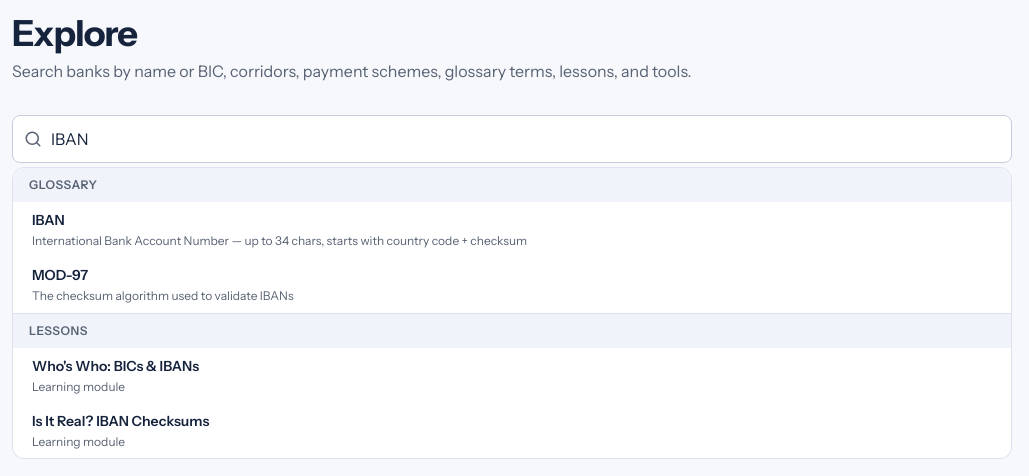
Scenario: ExplorePage › keeps Enter activation inside a router basename
This screenshot has width=1029, height=476.
Click the search field at (512, 139), box [12,115,1012,163]
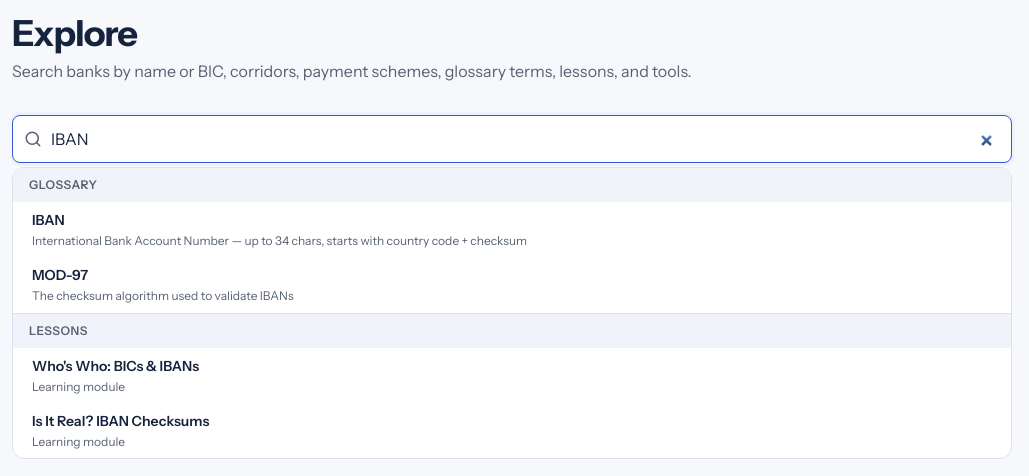
Press Arrowdown Enter
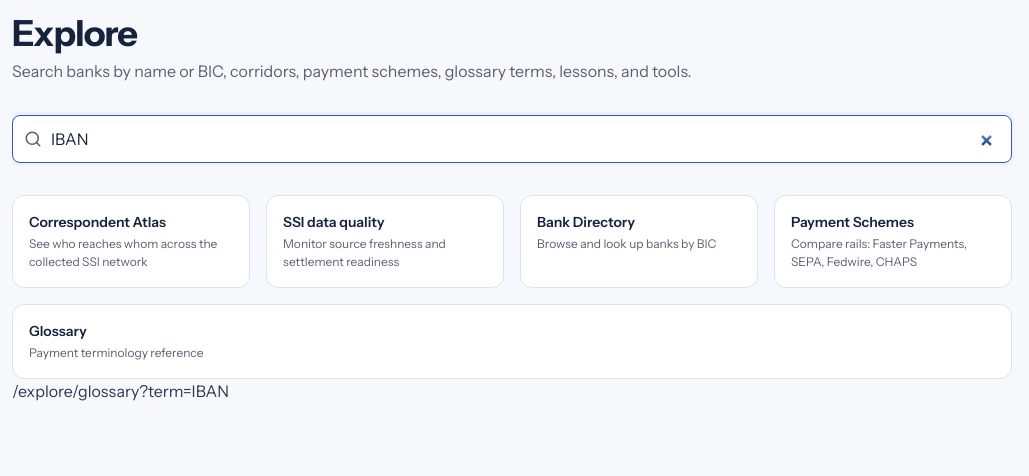
Expected: the text with test id "location" does not show "/app/app/", [12,381,229,401]
Now the text with test id "location" reads "/explore/glossary?term=IBAN", box [12,381,229,401]
